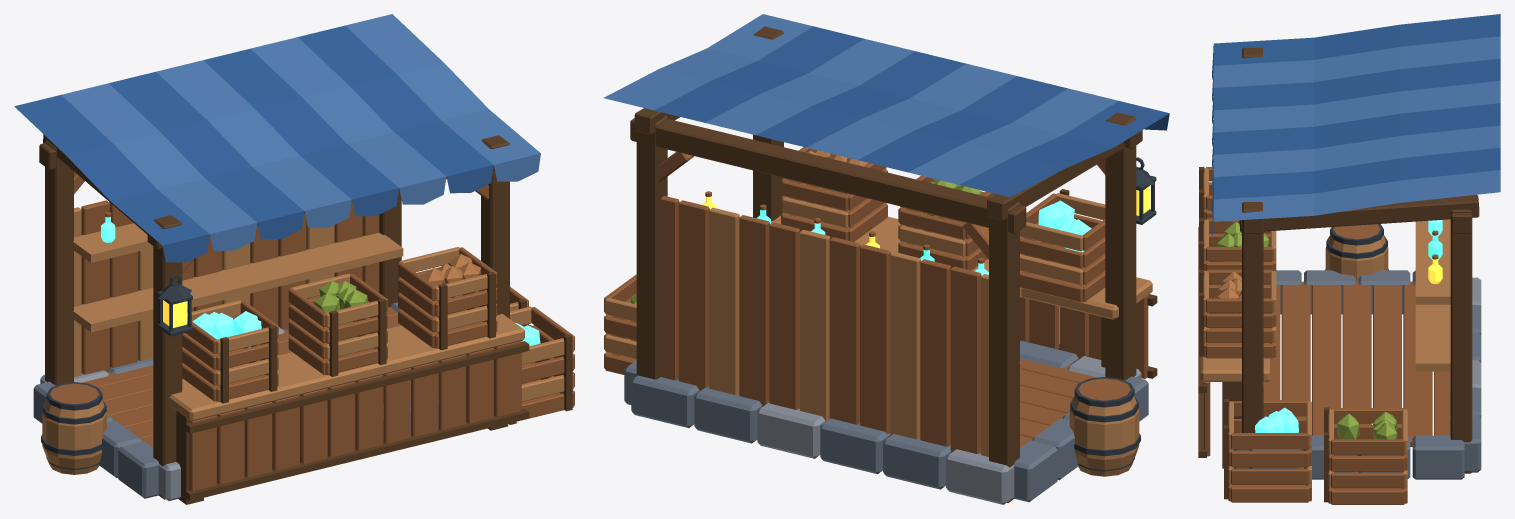
File: ResourceStall.glb
The picture shows the model from 3 angles, left to right: view 1: azimuth 30°, elevation 25°; view 2: azimuth 150°, elevation 25°; view 3: azimuth 270°, elevation 25°; orthographic projection. The views are drawn at different scales.
Parts seen in each view (by area): view 1: Stock shelf, Striped canvas.002, Striped canvas.001, Striped canvas.003, Striped canvas.006, Striped canvas.004, Striped canvas.005, Striped canvas.007, Striped canvas, Merchant countertop, Market post.001, Market post (+69 smaller); view 2: Market lintel.001, Market post.001, Market post, Striped canvas.001, Striped canvas.002, Striped canvas.004, Striped canvas.006, Striped canvas.005, Striped canvas.003, Market post.003, Striped canvas.007, Striped canvas (+47 smaller); view 3: Striped canvas.006, Striped canvas.002, Striped canvas.001, Striped canvas.003, Striped canvas.004, Striped canvas.005, Striped canvas, Striped canvas.007, Market post.003, Market post.002, Market floorboard.002, Market floorboard.003 (+44 smaller).
Boxes of the visible parts, x1=… form: Stock shelf: x1=73, y1=232, x2=403, y2=332; Striped canvas.002: x1=109, y1=71, x2=303, y2=222; Striped canvas.001: x1=61, y1=83, x2=256, y2=233; Striped canvas.003: x1=156, y1=60, x2=351, y2=210; Striped canvas.006: x1=298, y1=25, x2=493, y2=176; Striped canvas.004: x1=203, y1=48, x2=398, y2=199; Striped canvas.005: x1=251, y1=37, x2=445, y2=187; Striped canvas.007: x1=345, y1=14, x2=540, y2=164; Striped canvas: x1=14, y1=95, x2=209, y2=245; Merchant countertop: x1=169, y1=314, x2=524, y2=421; Market post.001: x1=45, y1=140, x2=73, y2=385; Market post: x1=153, y1=215, x2=182, y2=499; Market lintel.001: x1=630, y1=118, x2=1026, y2=234; Market post.001: x1=989, y1=202, x2=1019, y2=502; Market post: x1=1105, y1=112, x2=1136, y2=380; Striped canvas.001: x1=908, y1=88, x2=1118, y2=184; Striped canvas.002: x1=858, y1=76, x2=1067, y2=172; Striped canvas.004: x1=756, y1=51, x2=965, y2=147; Striped canvas.006: x1=654, y1=26, x2=864, y2=122; Striped canvas.005: x1=705, y1=39, x2=914, y2=135; Striped canvas.003: x1=807, y1=63, x2=1016, y2=159; Market post.003: x1=636, y1=116, x2=667, y2=379; Striped canvas.007: x1=604, y1=14, x2=813, y2=110; Striped canvas: x1=959, y1=101, x2=1169, y2=197; Striped canvas.006: x1=1213, y1=147, x2=1500, y2=199; Striped canvas.002: x1=1213, y1=58, x2=1500, y2=110; Striped canvas.001: x1=1213, y1=36, x2=1500, y2=87; Striped canvas.003: x1=1213, y1=81, x2=1500, y2=132; Striped canvas.004: x1=1213, y1=103, x2=1500, y2=154; Striped canvas.005: x1=1213, y1=125, x2=1500, y2=177; Striped canvas: x1=1213, y1=14, x2=1500, y2=65; Striped canvas.007: x1=1213, y1=170, x2=1500, y2=221; Market post.003: x1=1450, y1=209, x2=1472, y2=473; Market post.002: x1=1242, y1=202, x2=1263, y2=432; Market floorboard.002: x1=1312, y1=285, x2=1341, y2=435; Market floorboard.003: x1=1342, y1=281, x2=1371, y2=424.
Size of the model in its own units: 12.06 by 7.37 by 6.95.
